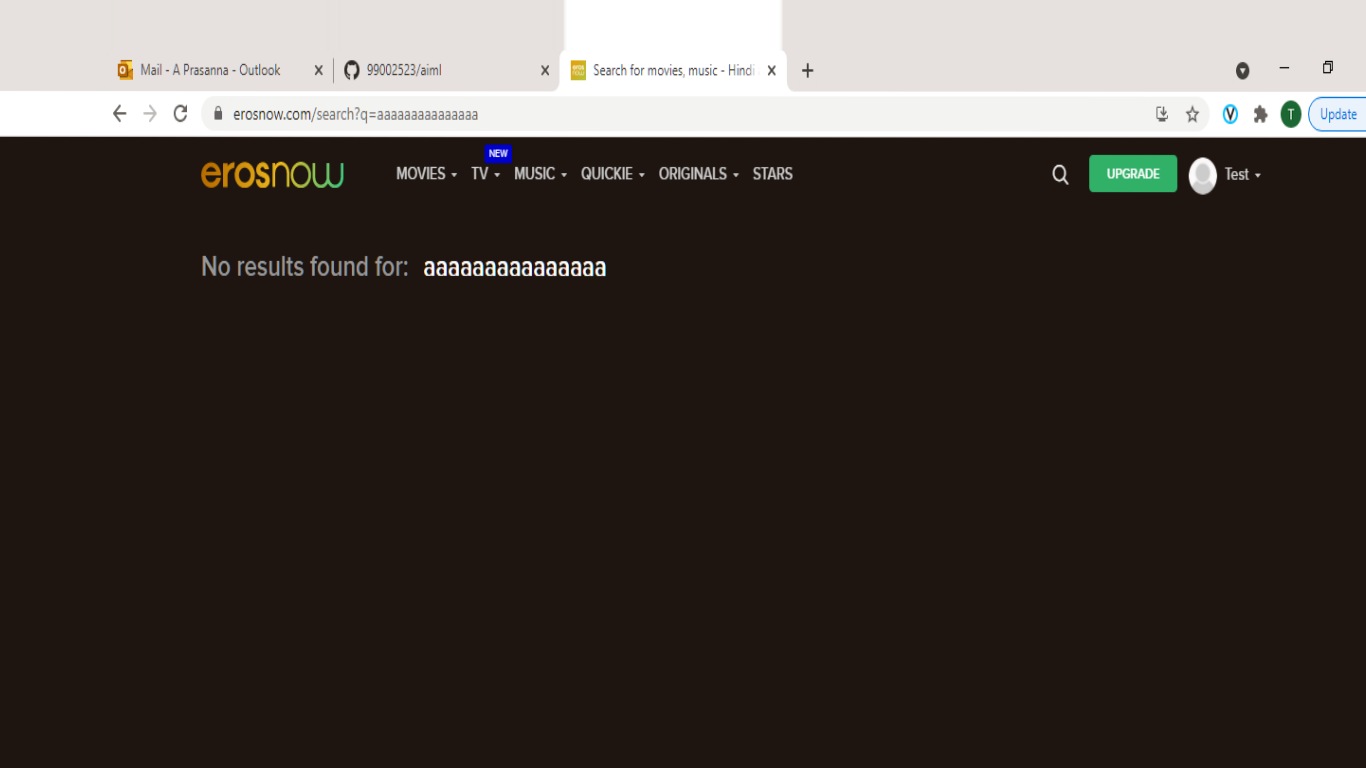noresultsfound: (179, 219, 640, 308)
profileicon: (1188, 148, 1281, 194)
searchicon: (1034, 152, 1079, 192)
